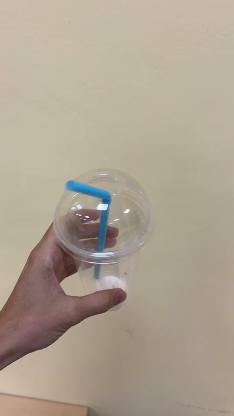Plastic Cup: (54, 166, 154, 310)
